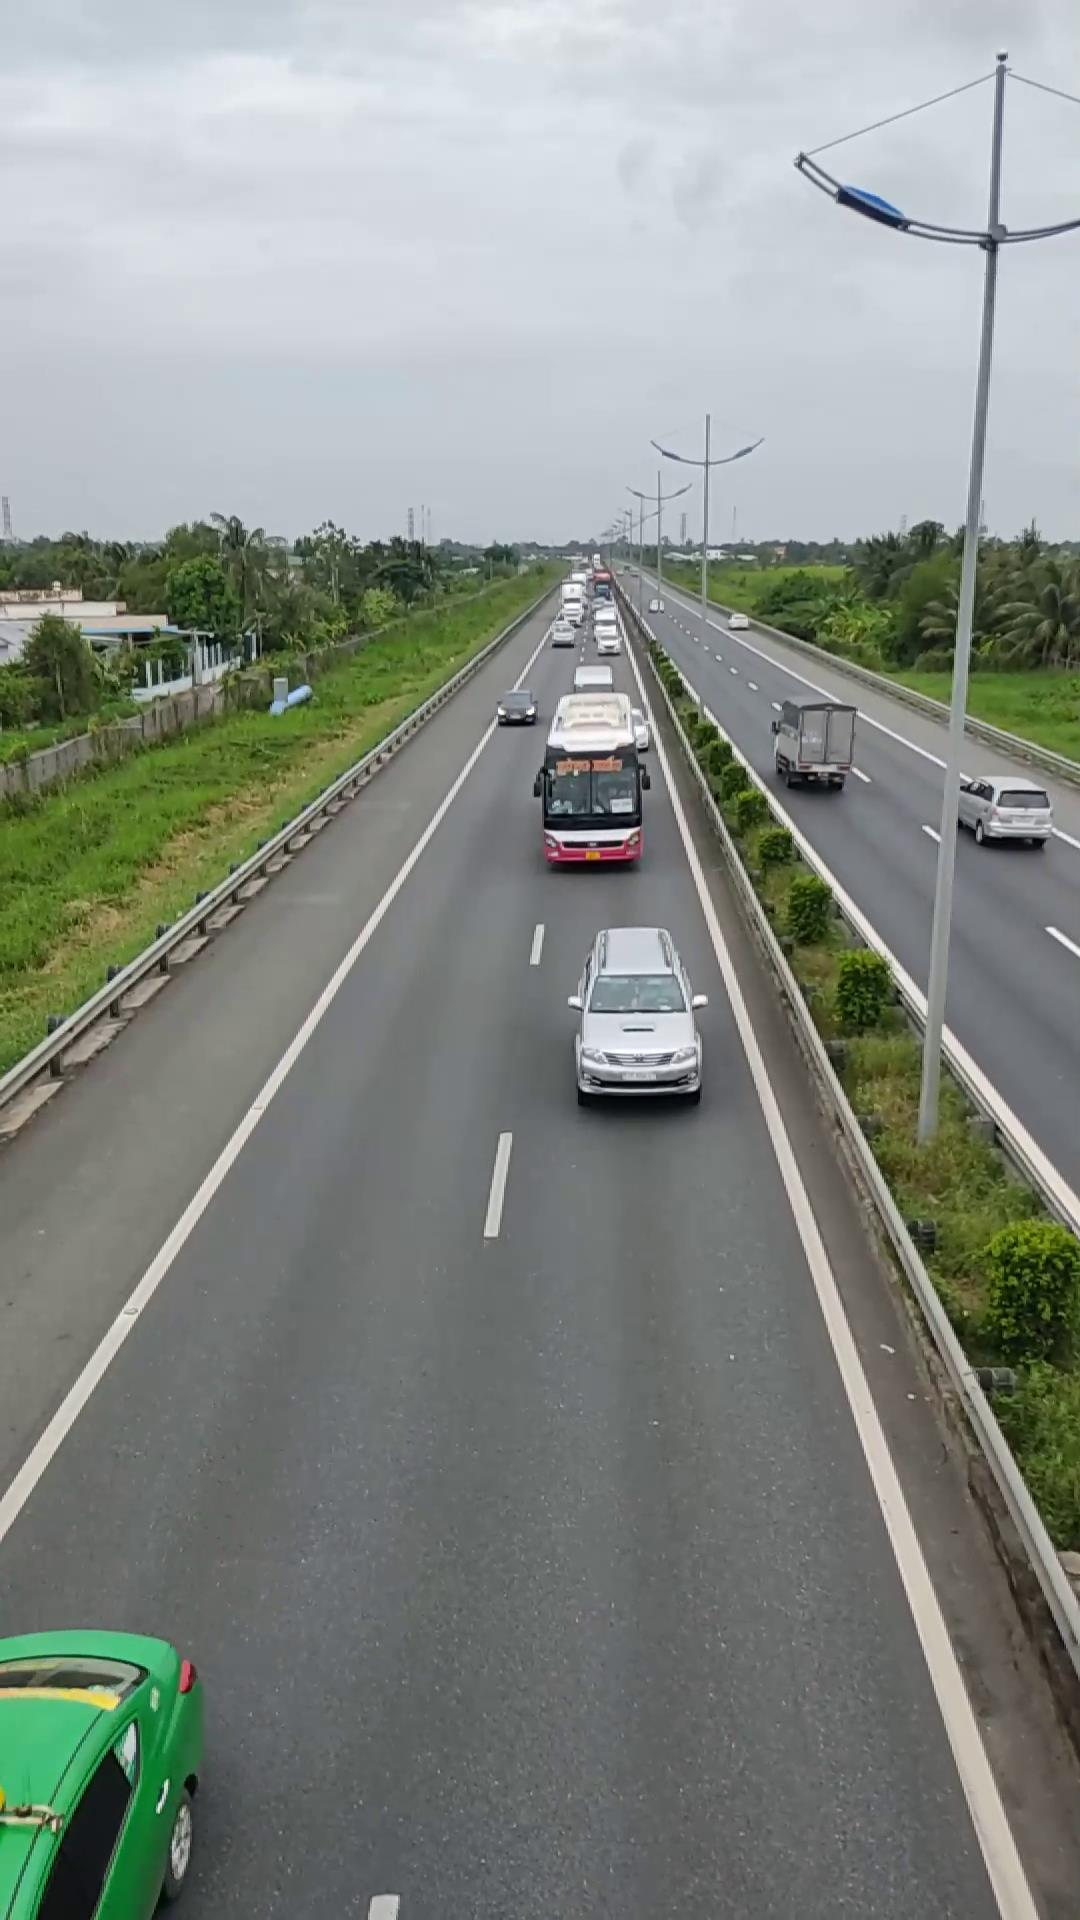bus: (533, 691, 645, 864)
car: (568, 924, 705, 1102), (952, 771, 1052, 847)
truck: (769, 691, 857, 789)
